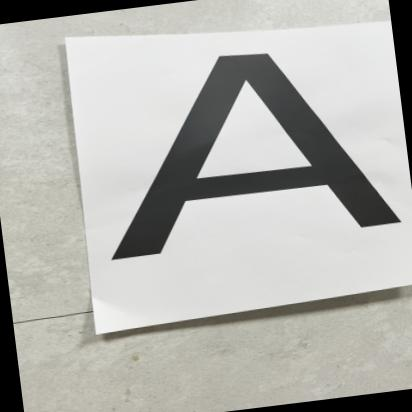seat: (89, 33, 402, 286)
